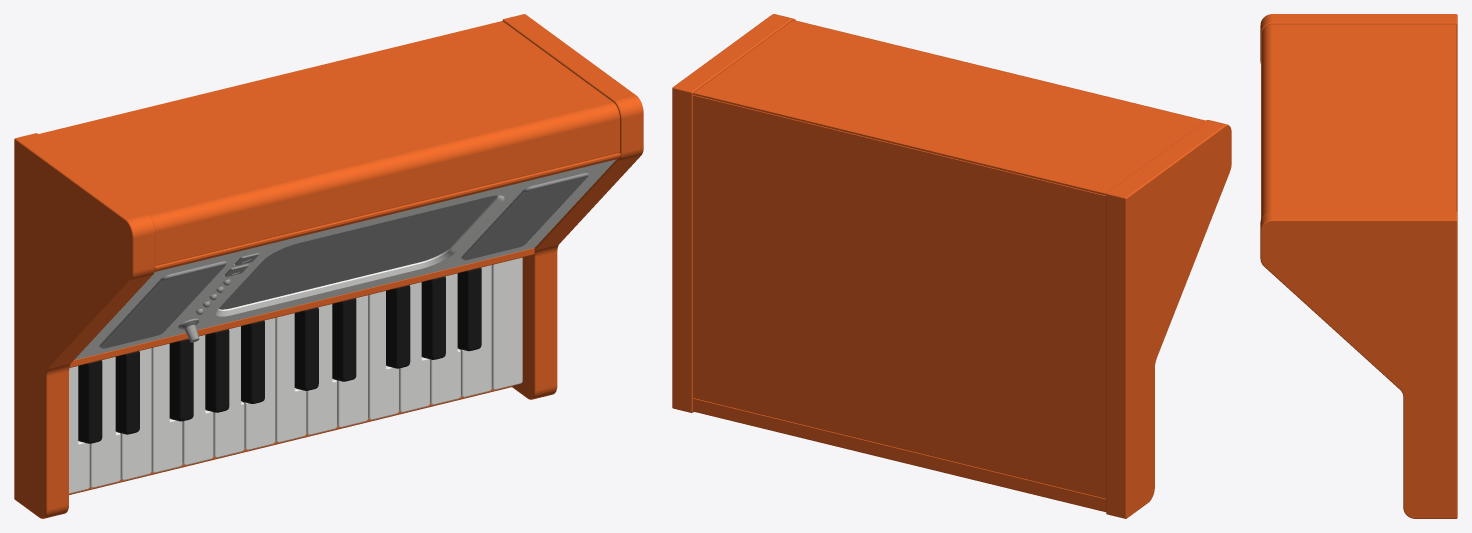
The model's file is Synthesizer asset v4.fbx.
3 views of the same model, side by side, from view 1: azimuth 30°, elevation 25°; view 2: azimuth 150°, elevation 25°; view 3: azimuth 270°, elevation 25° (orthographic). The views are drawn at different scales.
Parts seen in each view (by area): view 1: Back metal plate, Left plank, Interface plate, Right plank, Main screen, Body33, Left speaker grid, Right speaker grid, Rear key plank, Body21, Extruded slot, Body4 (+23 smaller); view 2: Bottom plate, Back metal plate, Left plank, Right plank, Front key plank; view 3: Back metal plate, Right plank, Left plank.
Part boxes in pixels (<box>): Back metal plate: <box>38,21,619,265</box>; Left plank: <box>14,133,155,518</box>; Interface plate: <box>74,159,616,360</box>; Right plank: <box>502,14,643,399</box>; Main screen: <box>218,195,497,309</box>; Body33: <box>491,257,522,389</box>; Left speaker grid: <box>99,261,226,348</box>; Right speaker grid: <box>461,173,588,260</box>; Rear key plank: <box>69,248,534,367</box>; Body21: <box>275,313,306,442</box>; Extruded slot: <box>154,153,620,271</box>; Body4: <box>151,343,182,472</box>; Bottom plate: <box>693,95,1106,498</box>; Back metal plate: <box>693,20,1205,195</box>; Left plank: <box>1106,120,1231,518</box>; Right plank: <box>672,14,795,412</box>; Front key plank: <box>693,398,1106,512</box>; Back metal plate: <box>1261,24,1456,216</box>; Right plank: <box>1260,211,1457,518</box>; Left plank: <box>1260,14,1457,211</box>.
Bounding box in the file's own units: 397 × 268 × 160.
